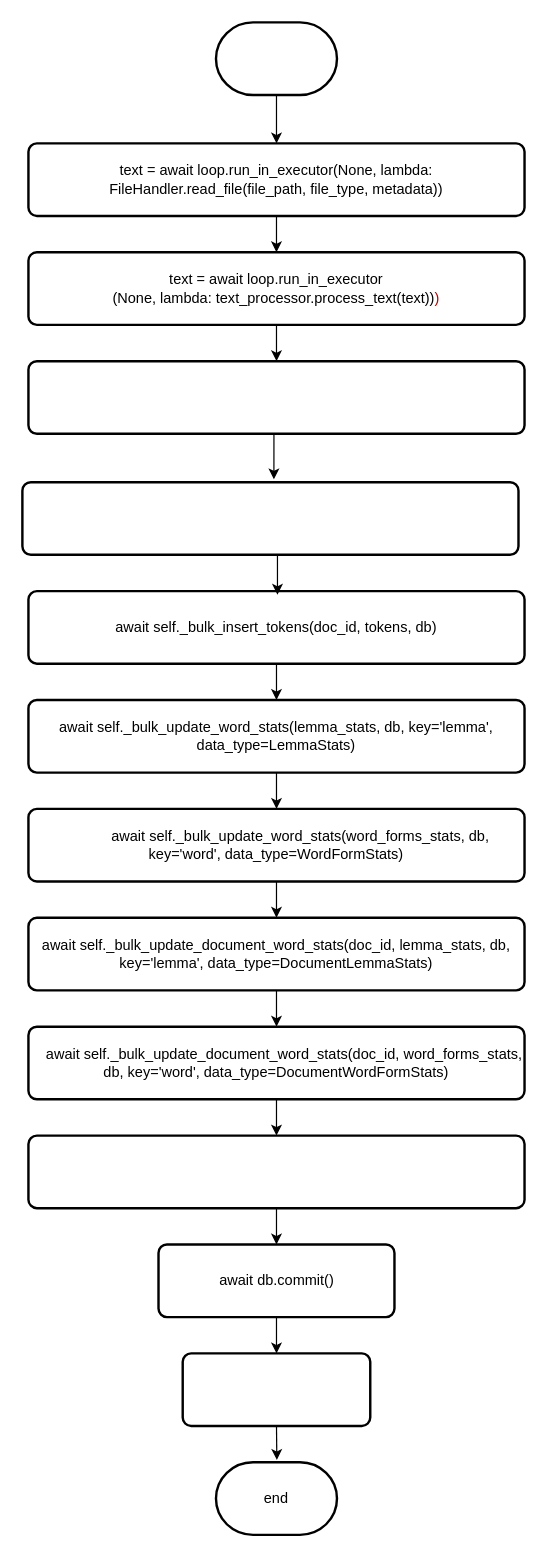
This 546x1556 diagram has some shape labels left out. Each missing label, with the box of its shape:
await db.flush(): (181, 1352, 371, 1427)
begin: (214, 21, 338, 96)
lemma_stats = self._calculate_stats(tokens, 'lemma'): (27, 359, 525, 434)
self._bulk_index_in_elasticsearch(doc_id, tokens, metadata): (27, 1134, 525, 1209)
word_forms_stats = self._calculate_stats(tokens, 'word'): (21, 480, 519, 555)
